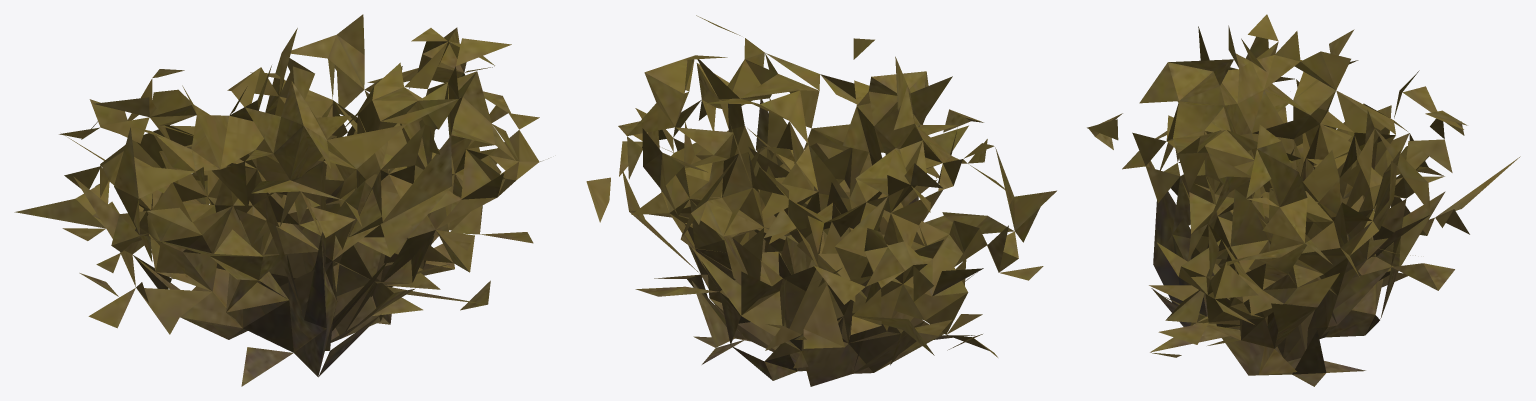
File: Urban_Bush_2500.glb
The picture shows the model from 3 angles, left to right: view 1: azimuth 30°, elevation 25°; view 2: azimuth 150°, elevation 25°; view 3: azimuth 270°, elevation 25°; orthographic projection. The views are drawn at different scales.
Parts seen in each view (by area): view 1: output_unwrapped; view 2: output_unwrapped; view 3: output_unwrapped.
Boxes of the visible parts, x1,y1,x2,y2 form: output_unwrapped: [14, 14, 548, 386]; output_unwrapped: [586, 15, 1056, 386]; output_unwrapped: [1087, 14, 1520, 386].
Bounding box in the file's own units: 2.2 × 1.45 × 1.95.
1 material, 1 textured.
